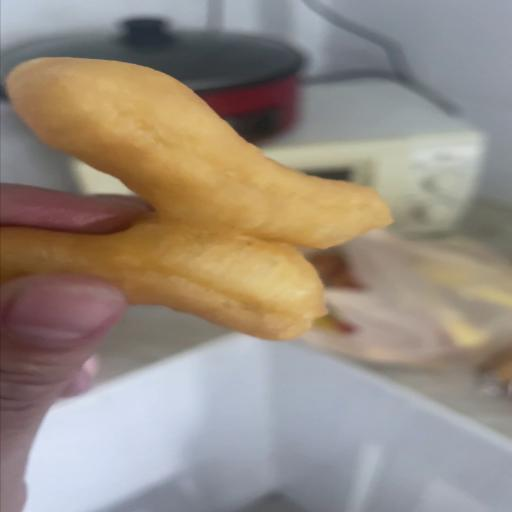street_golden_good: (1, 59, 391, 340)
